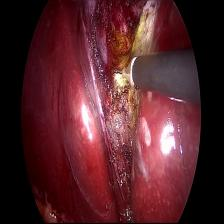Hook: (110, 54, 145, 96)
